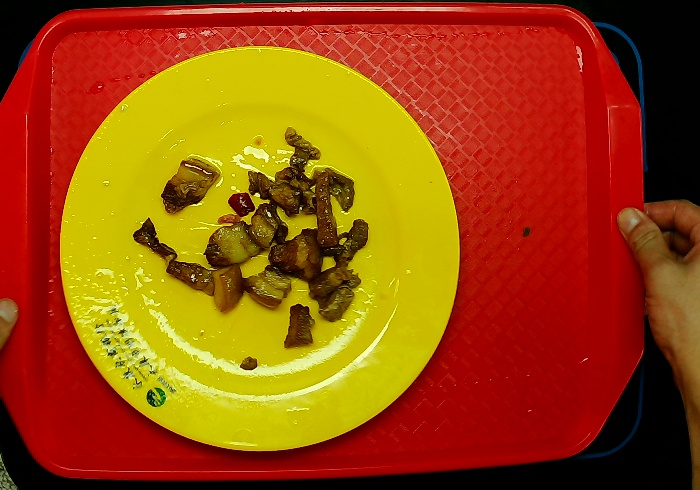YKMZ-Huang_Se_Mian_Pan: (59, 42, 461, 454)
